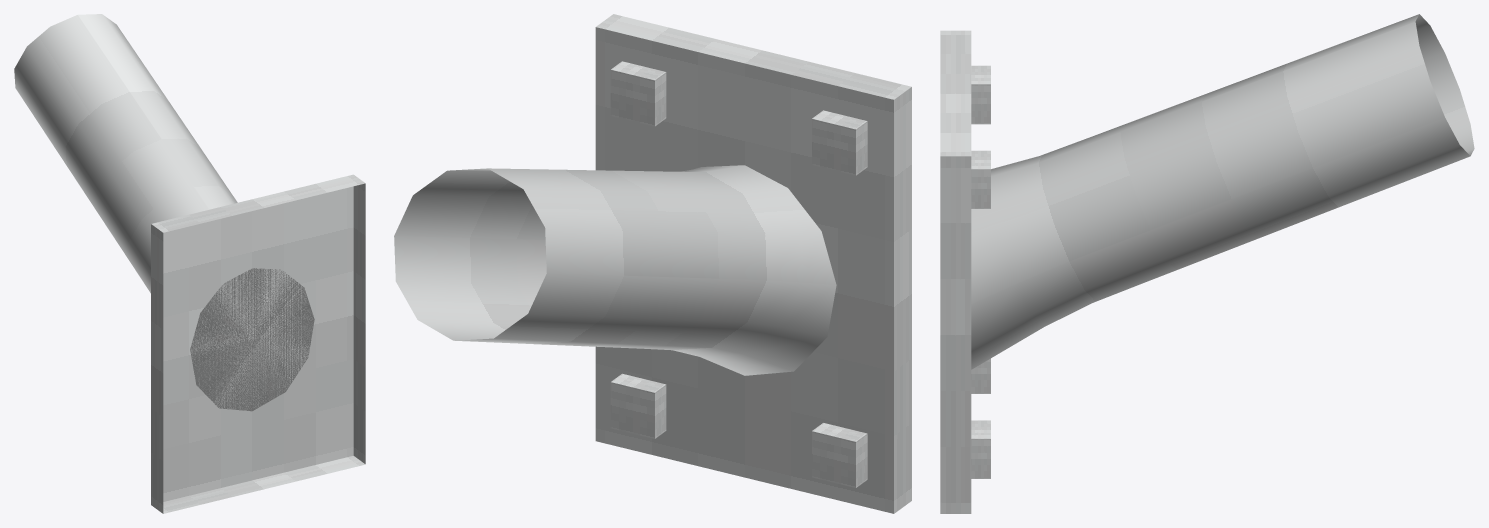
Rendered from luminairearm_caltrans10ftstraight_c0_wall.obj.
The picture shows the model from 3 angles, left to right: view 1: azimuth 30°, elevation 25°; view 2: azimuth 150°, elevation 25°; view 3: azimuth 270°, elevation 25°; orthographic projection. The views are drawn at different scales.
Visible parts, largest first — view 1: luminairearm_caltrans10ftstraight_c0_wall; view 2: luminairearm_caltrans10ftstraight_c0_wall; view 3: luminairearm_caltrans10ftstraight_c0_wall.
Boxes of the visible parts, bbox=[...] form: luminairearm_caltrans10ftstraight_c0_wall: bbox=[14, 14, 365, 513]; luminairearm_caltrans10ftstraight_c0_wall: bbox=[394, 14, 911, 513]; luminairearm_caltrans10ftstraight_c0_wall: bbox=[940, 14, 1474, 513].
Bounding box in the file's own units: 0.4221 × 0.6725 × 0.7579.
